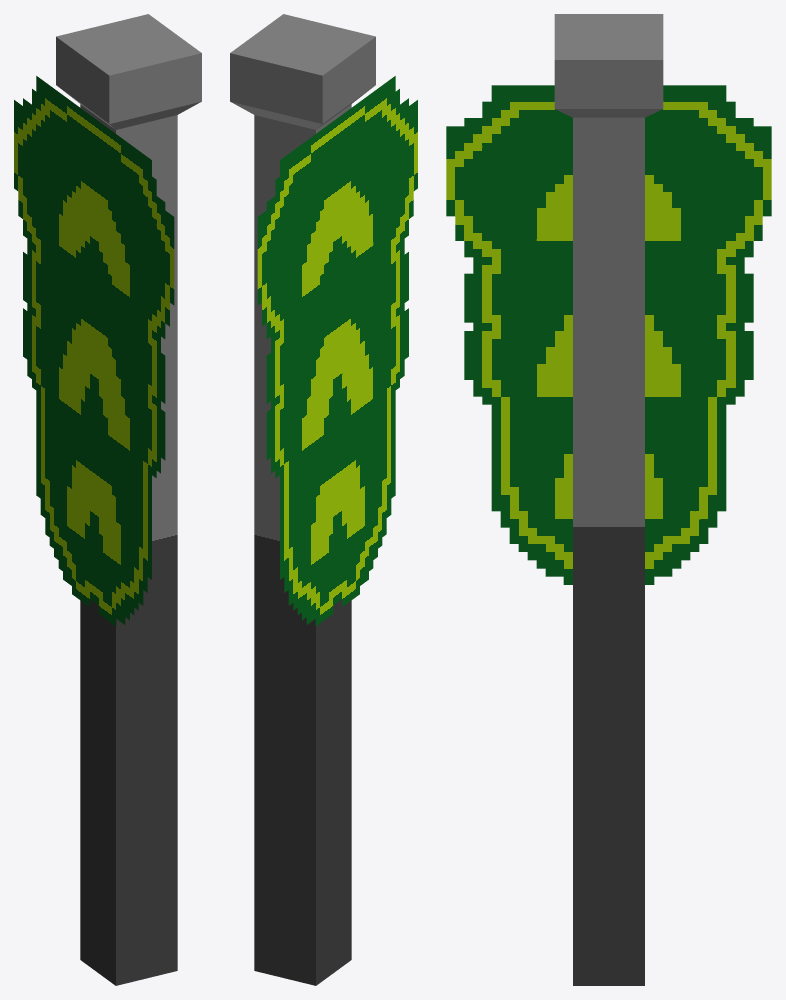
The model's file is Banner.gltf.
The picture shows the model from 3 angles, left to right: view 1: azimuth 30°, elevation 25°; view 2: azimuth 150°, elevation 25°; view 3: azimuth 270°, elevation 25°; orthographic projection.
Visible parts, largest first — view 1: plane, mesh; view 2: plane, mesh; view 3: plane, mesh.
Boxes of the visible parts, x1,y1,x2,y2 form: plane: (14, 76, 174, 626); mesh: (56, 14, 201, 985); plane: (257, 76, 417, 626); mesh: (230, 14, 375, 985); plane: (446, 85, 771, 584); mesh: (554, 14, 663, 985).
Size of the model in its own units: 0.375 by 3.56 by 1.12.
Materials: 2 (2 with a texture image).
